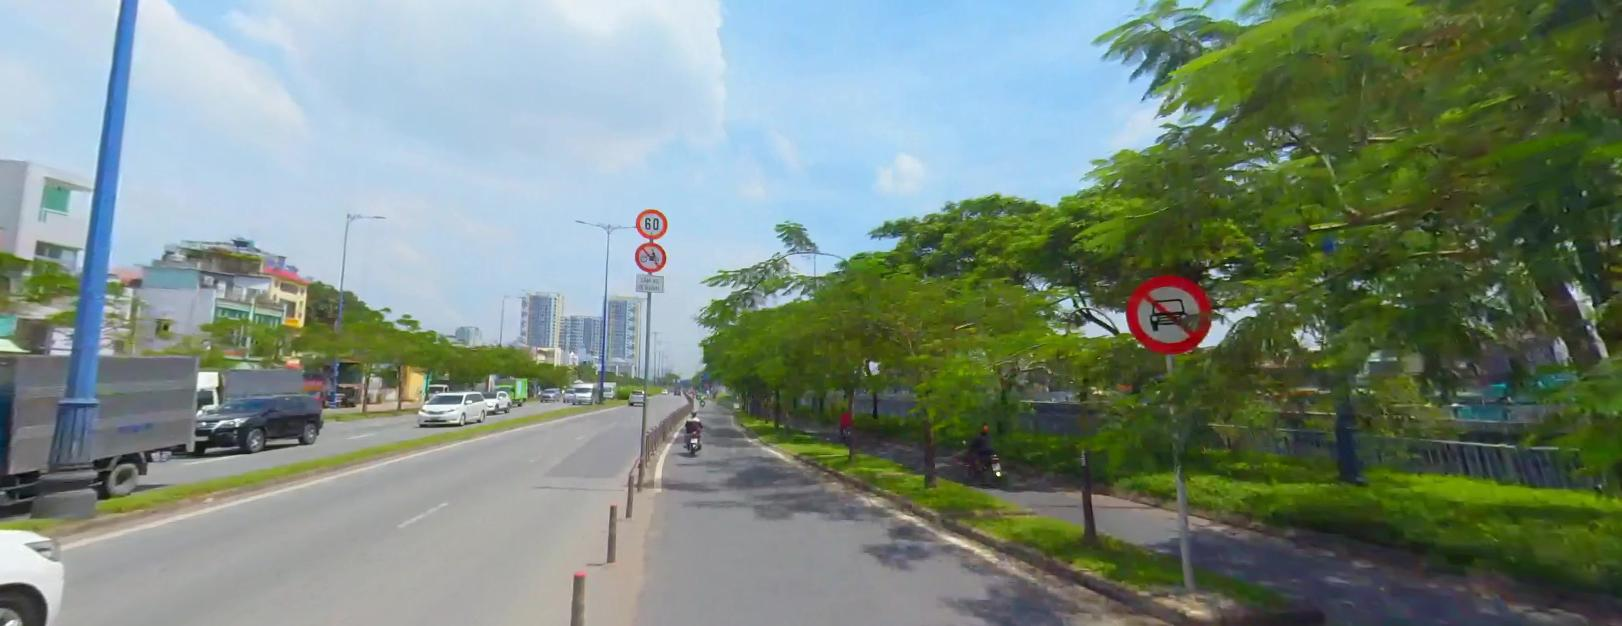Cam con lai: (1126, 272, 1213, 353), (633, 241, 666, 271)
Gioi han toc do: (635, 207, 667, 237)
